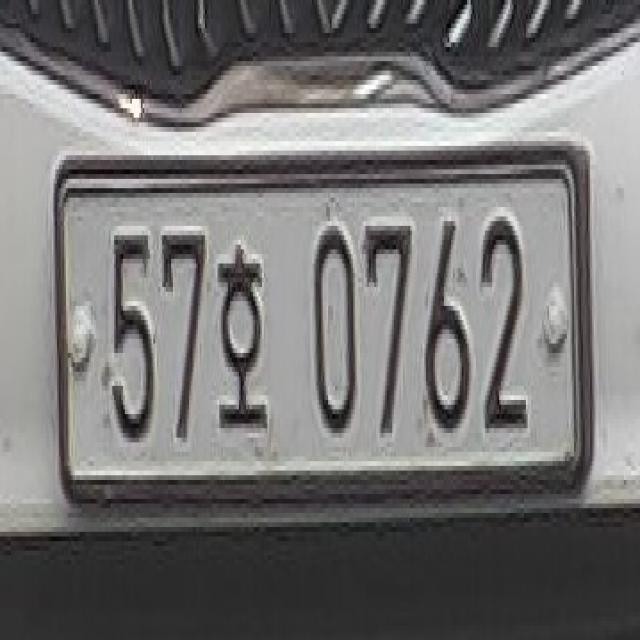0: (305, 214, 357, 432)
2: (476, 204, 531, 438)
5: (108, 216, 156, 449)
6: (421, 209, 473, 435)
7: (360, 206, 414, 449), (160, 217, 208, 446)
ho: (212, 220, 271, 438)
license_plate: (50, 139, 592, 502)
